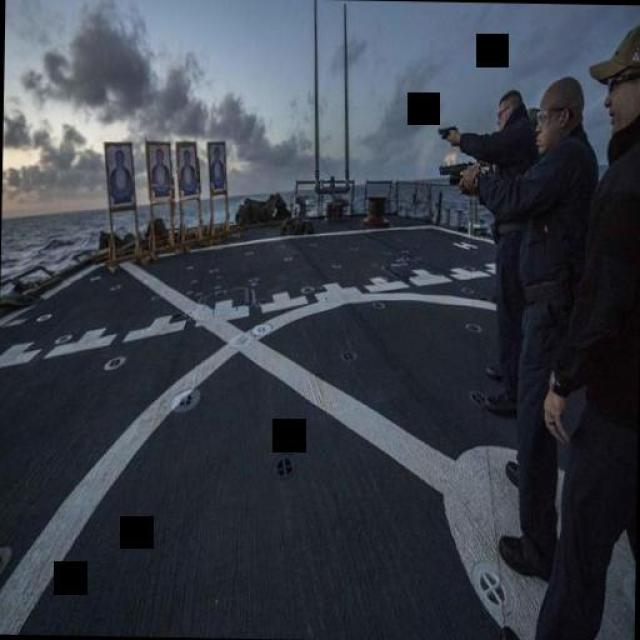gun: (435, 152, 473, 192), (436, 118, 456, 144)
